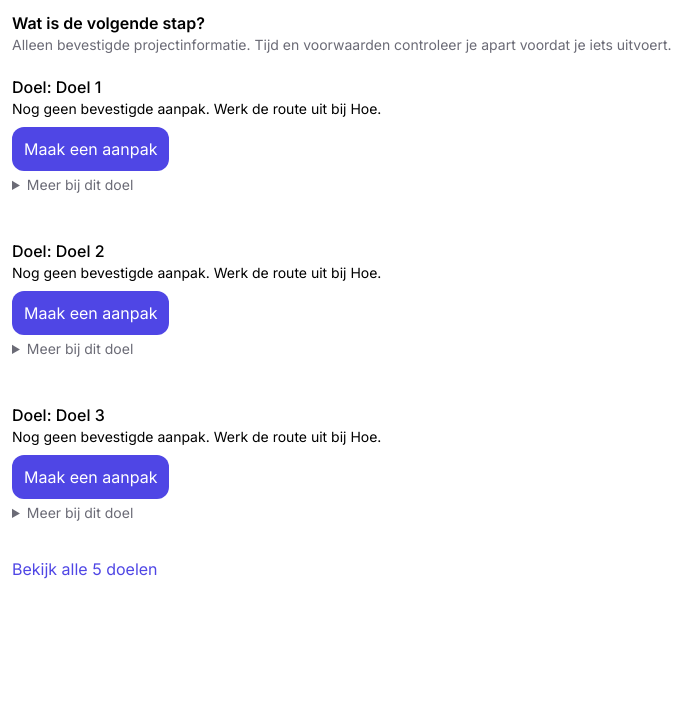
Test: beperkt het eerste overzicht tot drie doelen zonder de rest te verliezen
The width and height of the screenshot is (688, 708).
Expected: the text "Doel: Doel 5" is not shown
Click the button "Bekijk alle 5 doelen" at (85, 569), box [12, 547, 158, 591]
(page scrolled)
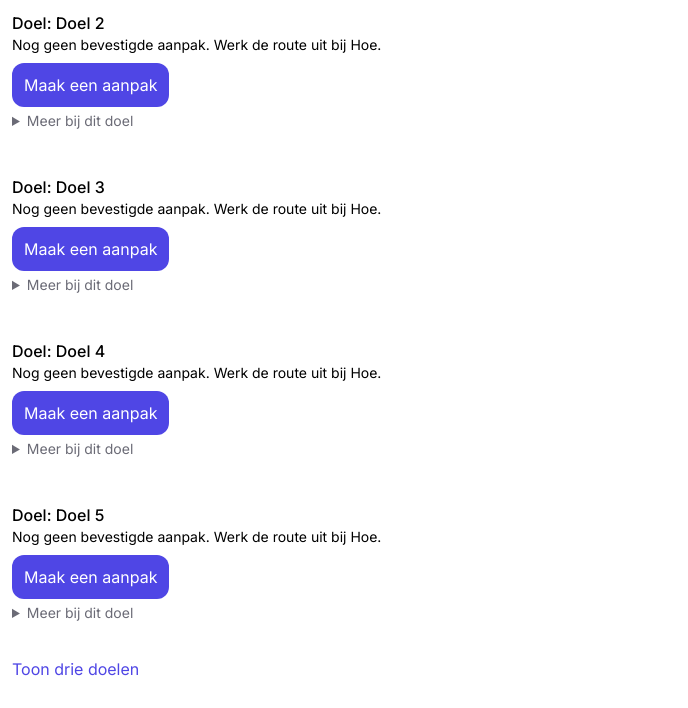
Result: the text "Doel: Doel 5" is shown at [12, 505, 104, 525]
Click the button "Toon drie doelen" at (76, 669), box [12, 647, 139, 691]
(page scrolled)
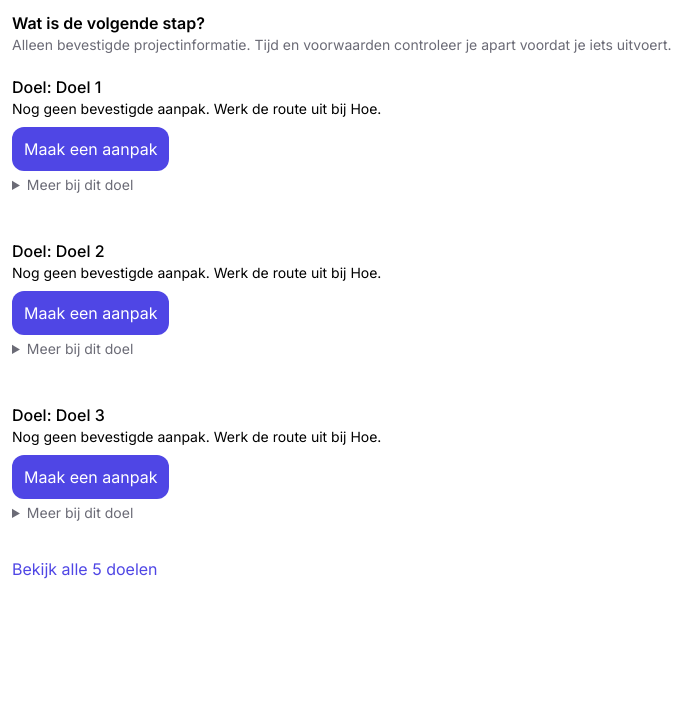
Result: the text "Doel: Doel 5" is gone
